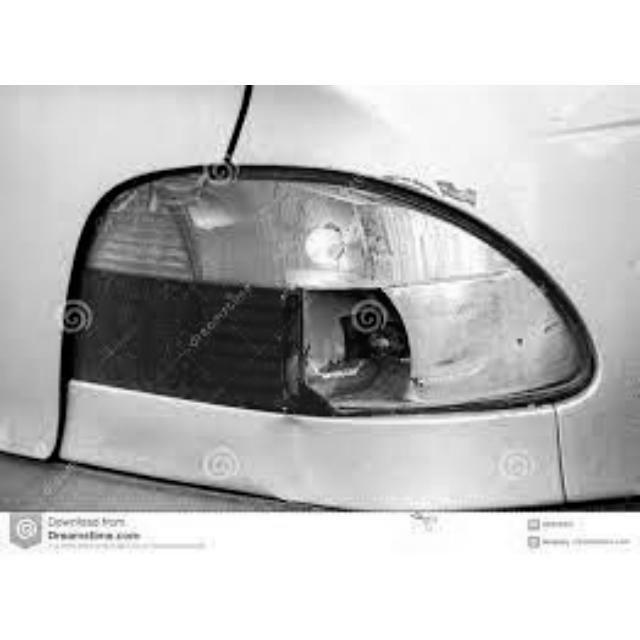Taillight-Damage: (47, 143, 596, 411)
